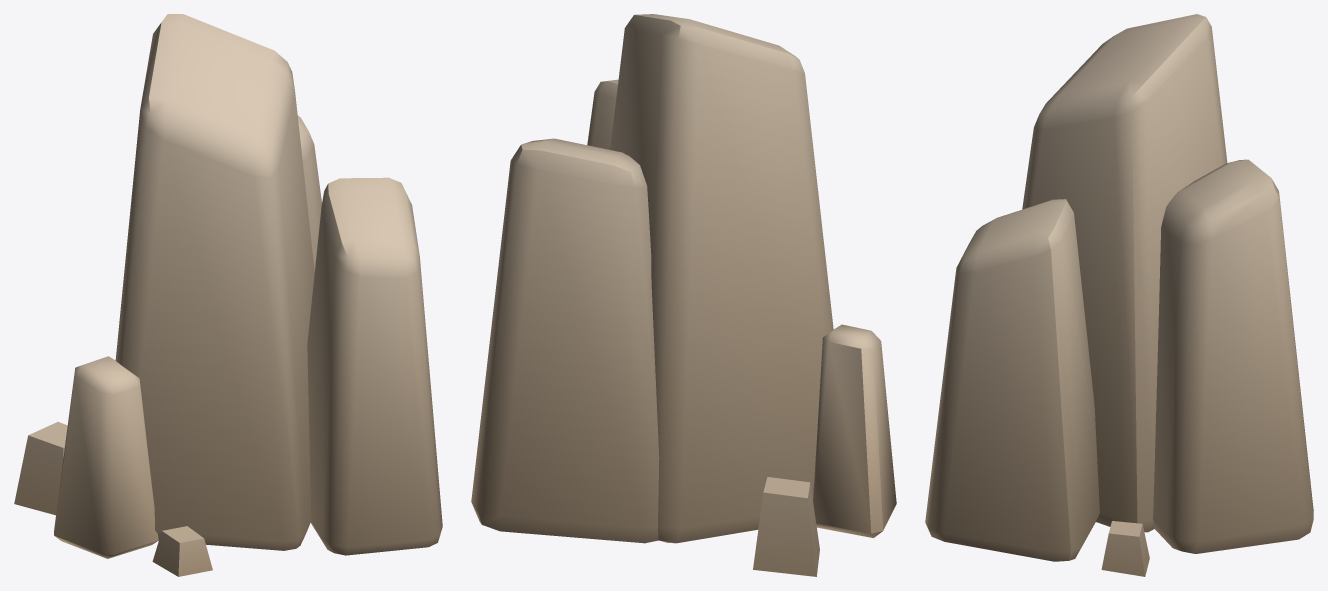
Rendered from Rock_4_F_Color7.fbx.
3 renders of one model, left to right at view 1: azimuth 30°, elevation 25°; view 2: azimuth 150°, elevation 25°; view 3: azimuth 270°, elevation 25°, orthographic. The views are drawn at different scales.
Visible parts, largest first — view 1: Rock_4_F_Color7; view 2: Rock_4_F_Color7; view 3: Rock_4_F_Color7.
Part boxes in pixels (x1,y1,x2,y2): Rock_4_F_Color7: [14, 14, 442, 576]; Rock_4_F_Color7: [471, 14, 896, 576]; Rock_4_F_Color7: [925, 14, 1313, 576].
Size of the model in its own units: 1.98 by 2.5 by 1.91.
